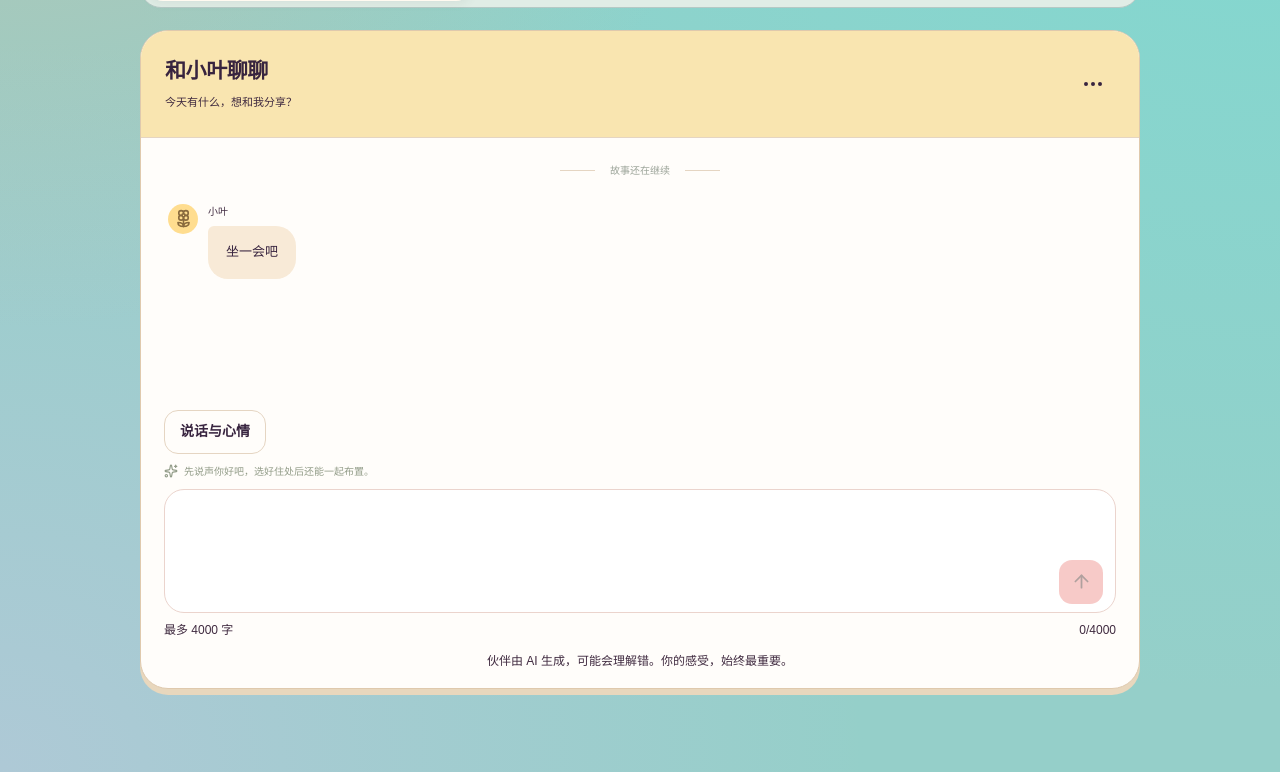
Test: keeps input and reloads persisted history on stream failure
(page scrolled)
Type "保留这句话" into the text box named "想对伙伴说的话" at (640, 528), box [177,495,1103,560]
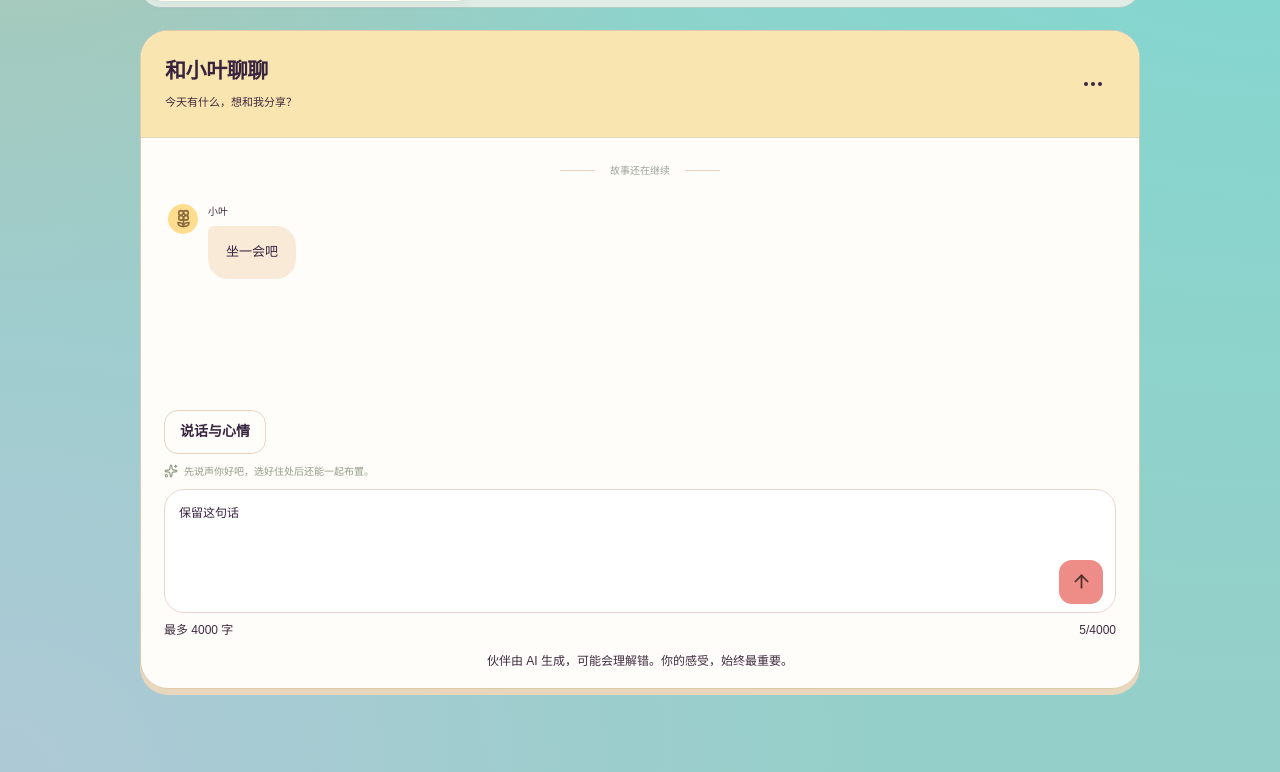
Click the button named "发送消息" at (1081, 582), box [1059,560,1103,604]
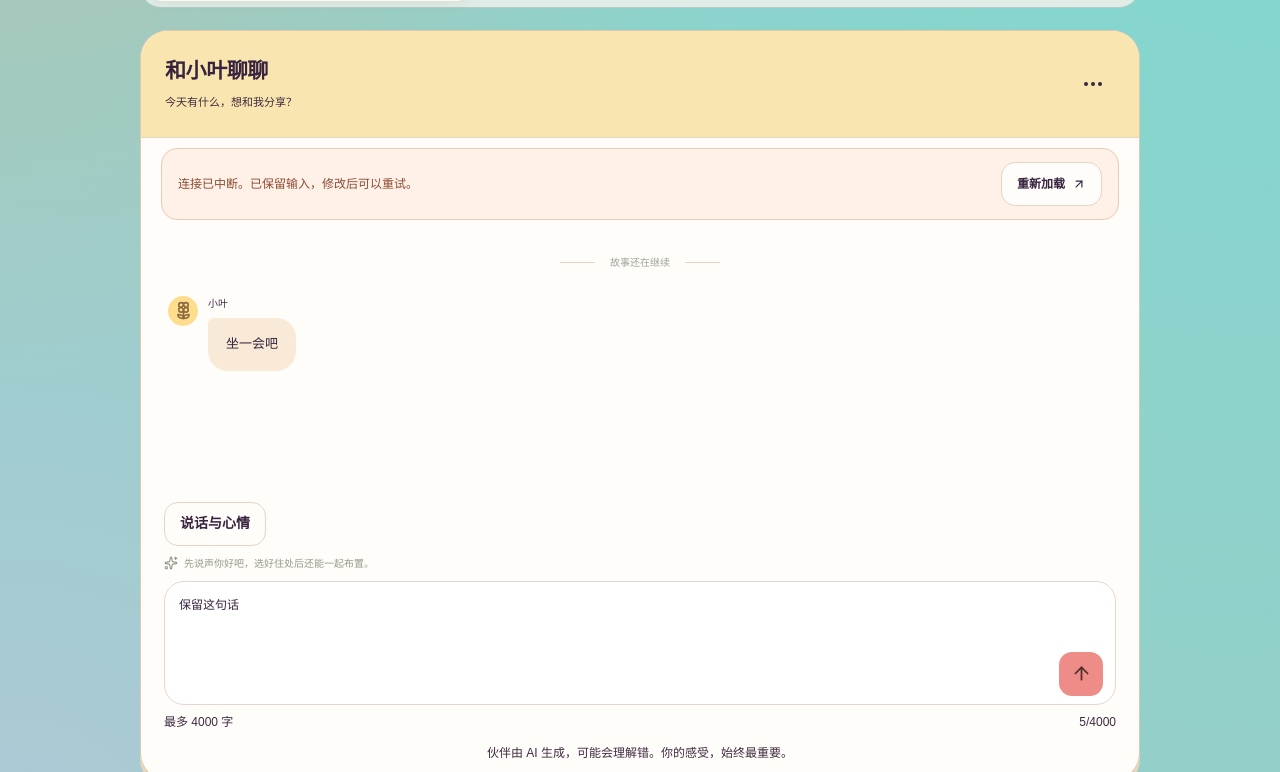
Check: the message shows "已保留输入", box [178,177,418,191]
